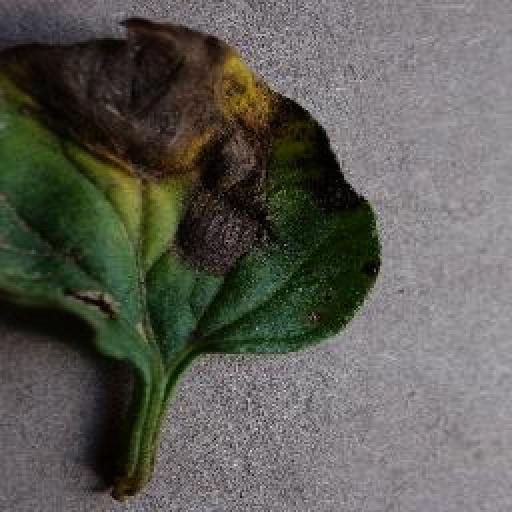disease_tomato: (6, 18, 382, 362)
